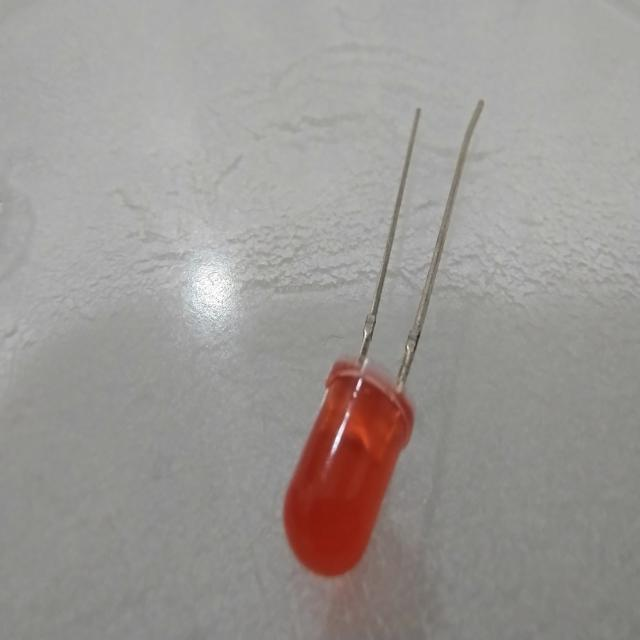red_led: (274, 355, 434, 583)
